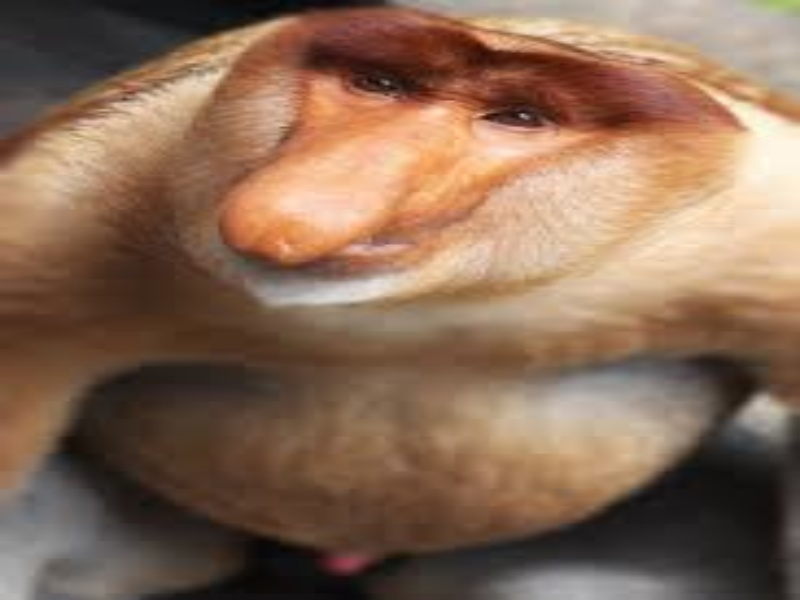monkey: (21, 10, 790, 567)
